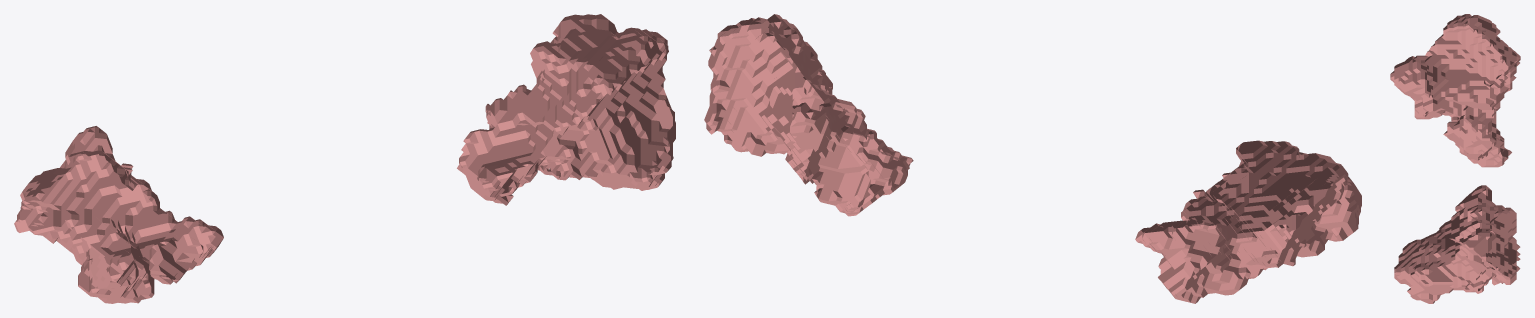
The model's file is region_0004_AON__anterior_octaval_nucleus_.glb.
3 views of the same model, side by side, from view 1: azimuth 30°, elevation 25°; view 2: azimuth 150°, elevation 25°; view 3: azimuth 270°, elevation 25° (orthographic). The views are drawn at different scales.
Parts seen in each view (by area): view 1: world; view 2: world; view 3: world.
Boxes of the visible parts, x1=… form: world: x1=14, y1=14, x2=675, y2=303; world: x1=704, y1=14, x2=1361, y2=303; world: x1=1390, y1=14, x2=1520, y2=303.
Bounding box in the file's own units: 1.02 × 0.256 × 0.256.
